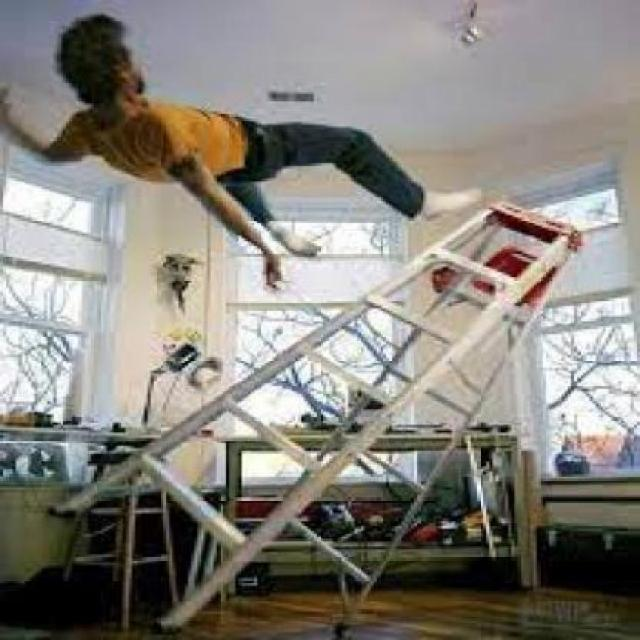fall: (11, 9, 478, 262)
